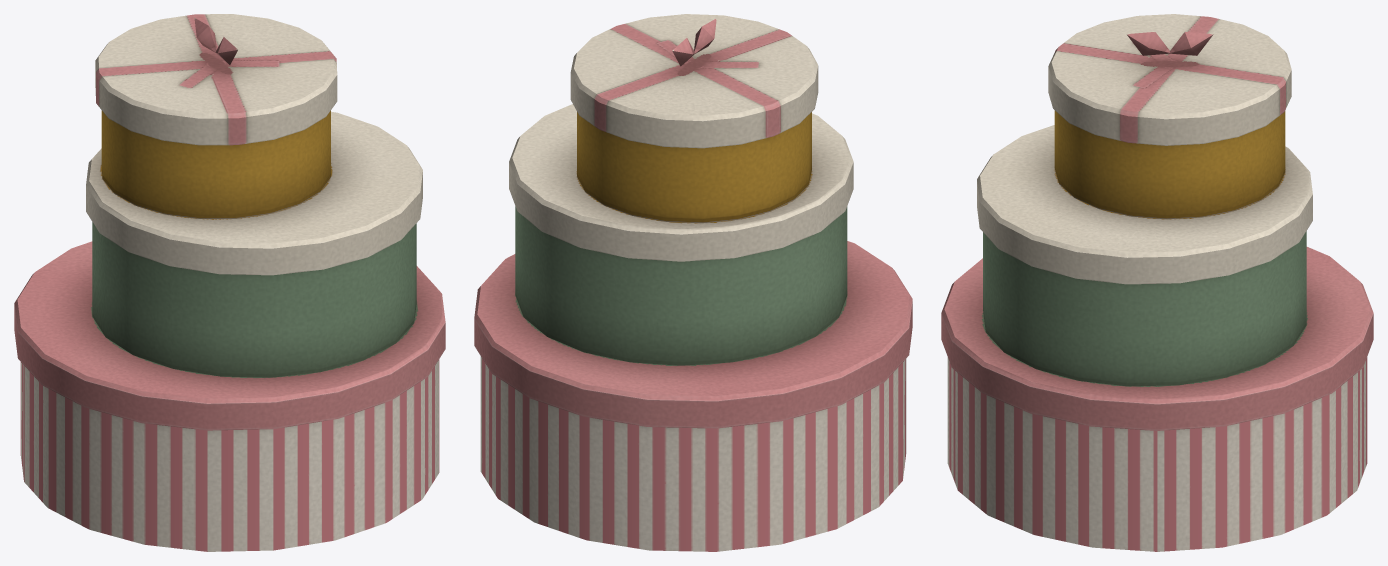
The model's file is Hat_Boxes_01.glb.
The picture shows the model from 3 angles, left to right: view 1: azimuth 30°, elevation 25°; view 2: azimuth 150°, elevation 25°; view 3: azimuth 270°, elevation 25°; orthographic projection.
Visible parts, largest first — view 1: Hat_Boxes_01; view 2: Hat_Boxes_01; view 3: Hat_Boxes_01.
Part boxes in pixels (x1=…): Hat_Boxes_01: x1=14, y1=14, x2=445, y2=551; Hat_Boxes_01: x1=474, y1=14, x2=912, y2=551; Hat_Boxes_01: x1=941, y1=14, x2=1373, y2=551.
Size of the model in its own units: 0.412 by 0.45 by 0.412.
Materials: 1 (1 with a texture image).
